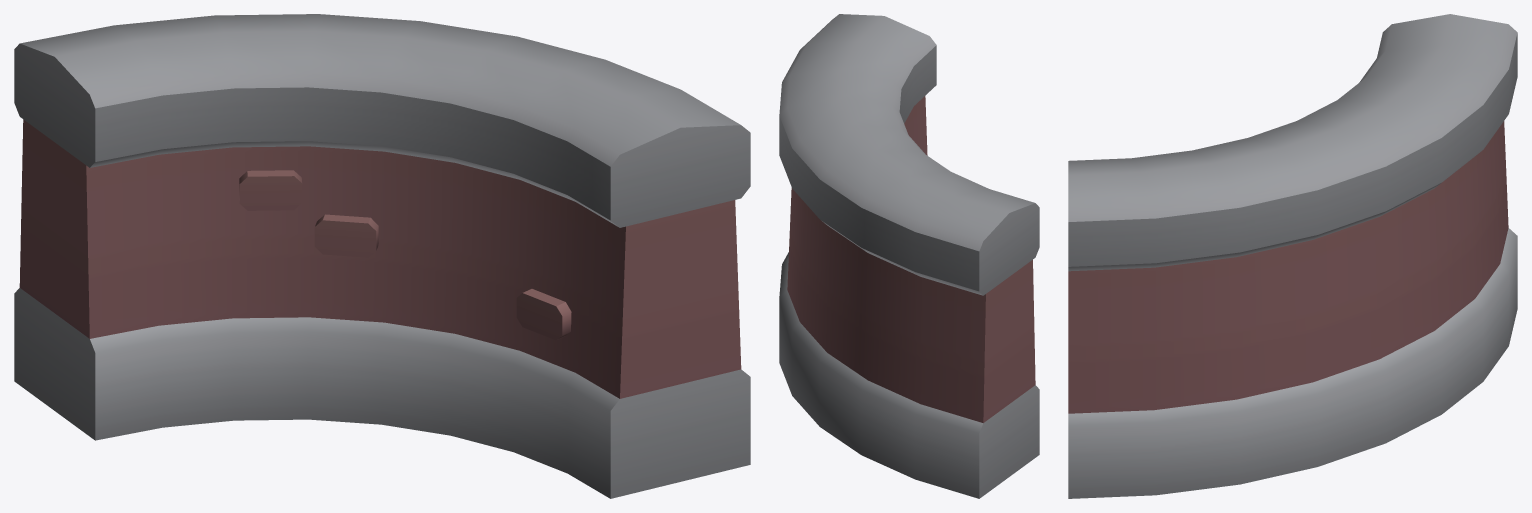
The model's file is brick-wall-curve.glb.
3 renders of one model, left to right at view 1: azimuth 30°, elevation 25°; view 2: azimuth 150°, elevation 25°; view 3: azimuth 270°, elevation 25°, orthographic. The views are drawn at different scales.
Visible parts, largest first — view 1: brick-wall-curve; view 2: brick-wall-curve; view 3: brick-wall-curve.
Boxes of the visible parts, x1,y1,x2,y2 form: brick-wall-curve: [14, 14, 750, 498]; brick-wall-curve: [779, 14, 1039, 498]; brick-wall-curve: [1068, 14, 1517, 498].
Size of the model in its own units: 2.4 by 1.74 by 2.4.
Materials: 1 (1 with a texture image).
